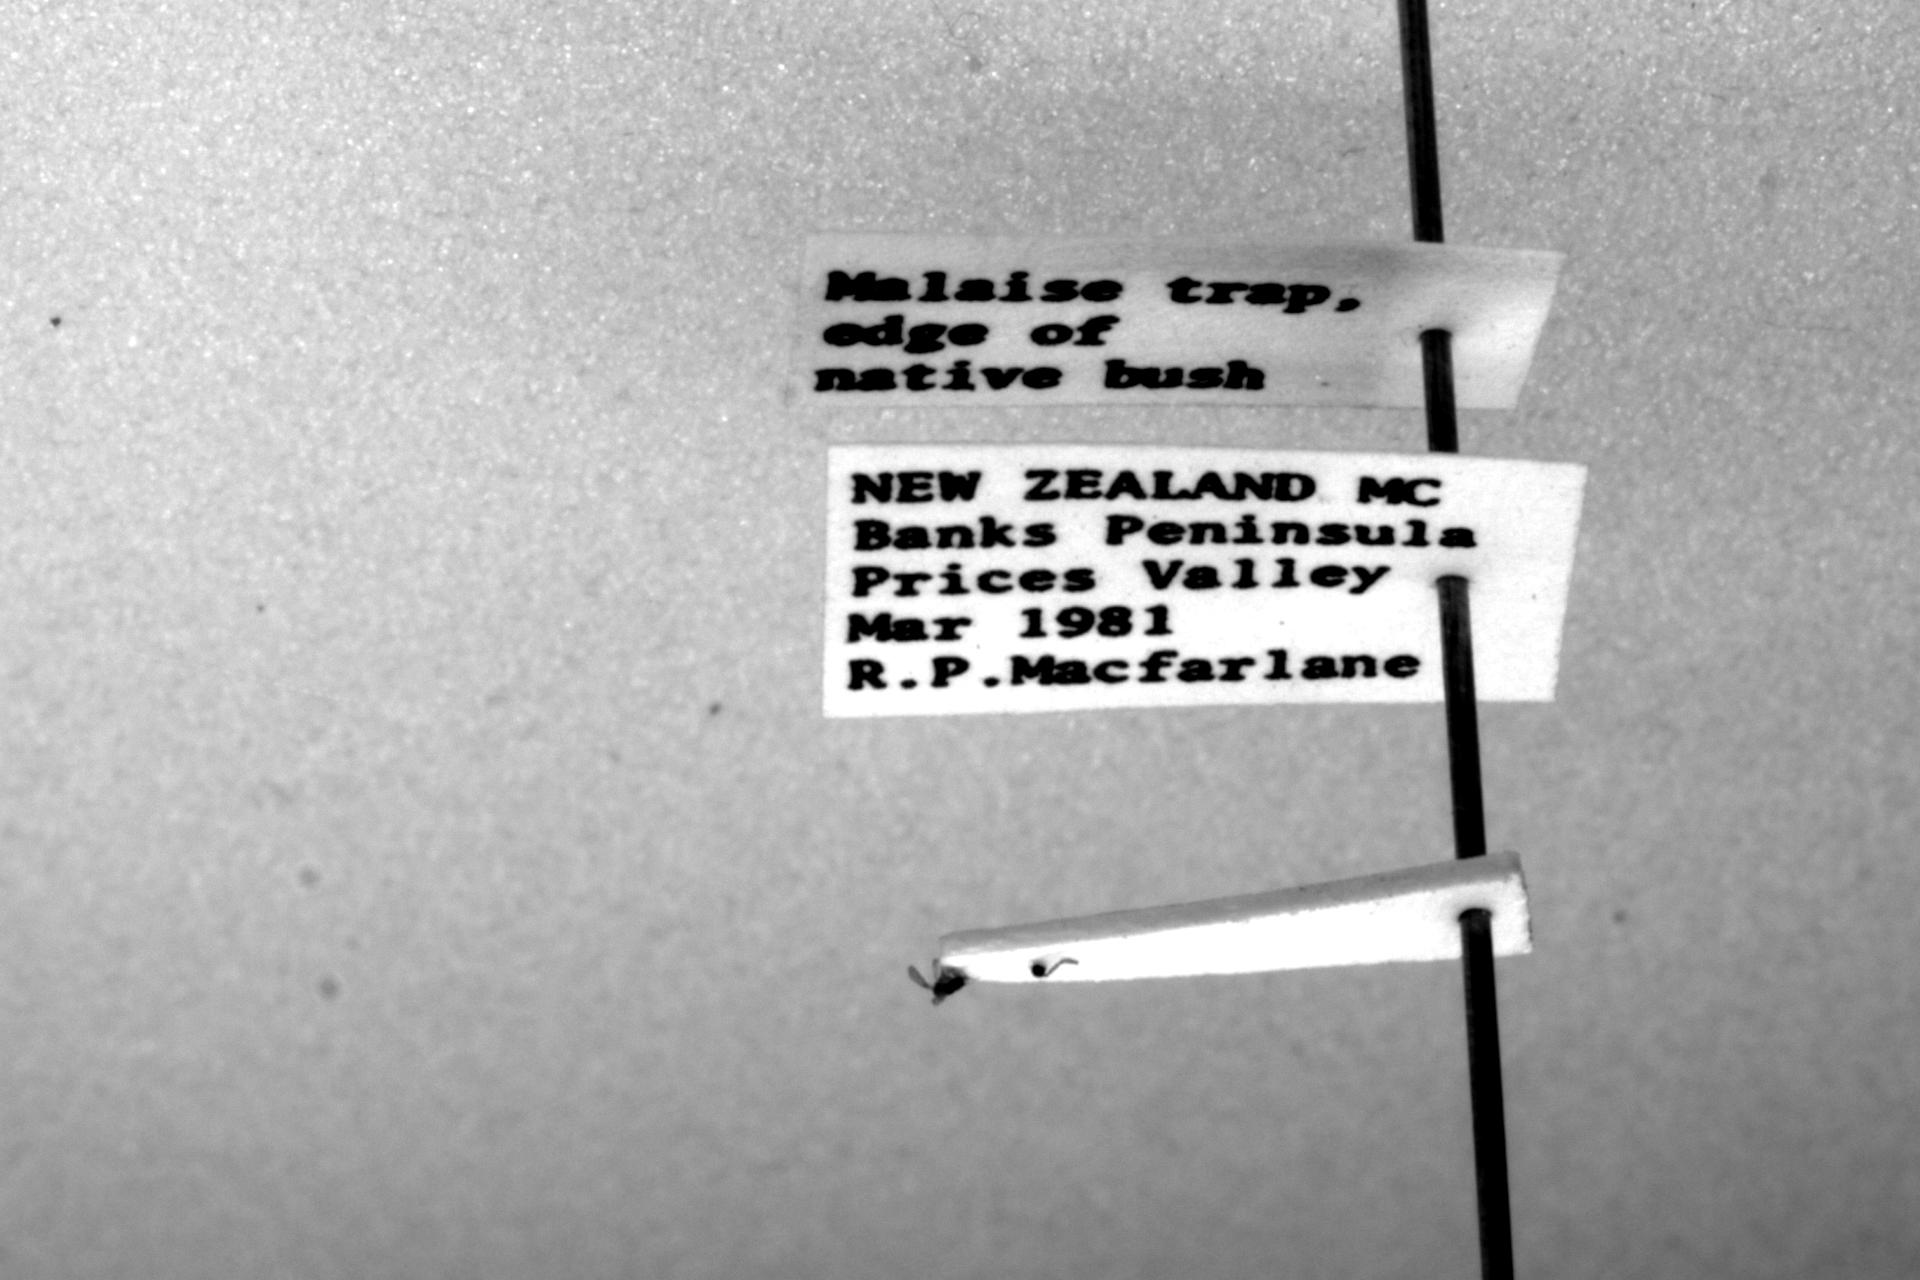typed_label: (825, 446, 1586, 716), (791, 232, 1564, 409)
